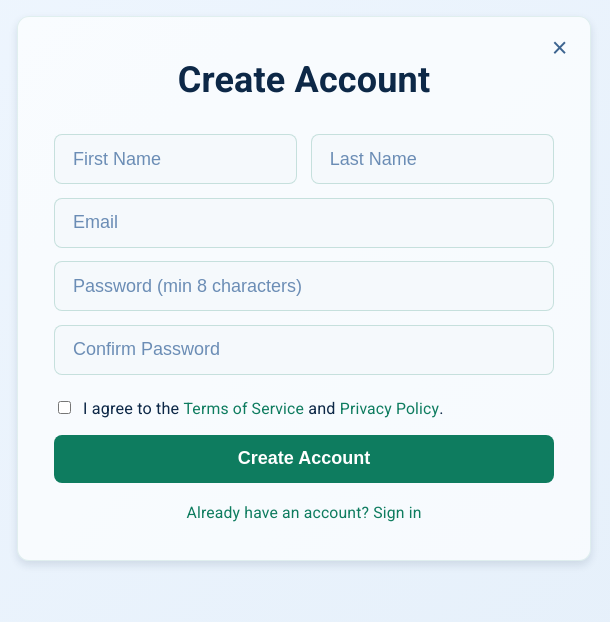
SignupPanel › shows error for empty fields on submit
Click the button "Create Account". click: (304, 459)
box: [54, 435, 554, 483]
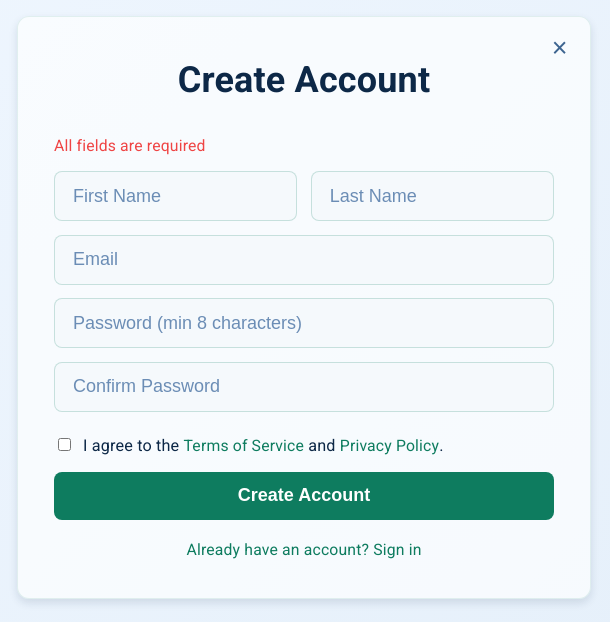
Expected: the text "All fields are required" is shown, [54, 136, 206, 155]
